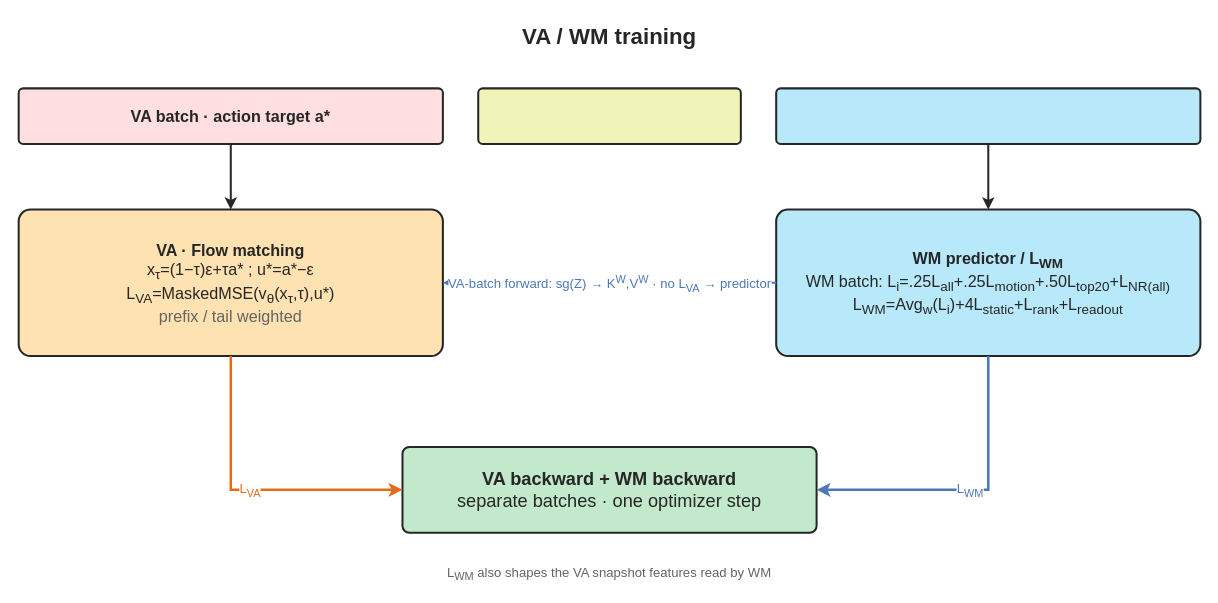
Image size: 1218x603. Some labels were removed from this diagram. Each missing label, with the centre of its shape:
B i , ν i : no direct target trained through L WM: [609,115]
Independent WM batch · next DINO Z* target stop-grad: [988,115]
